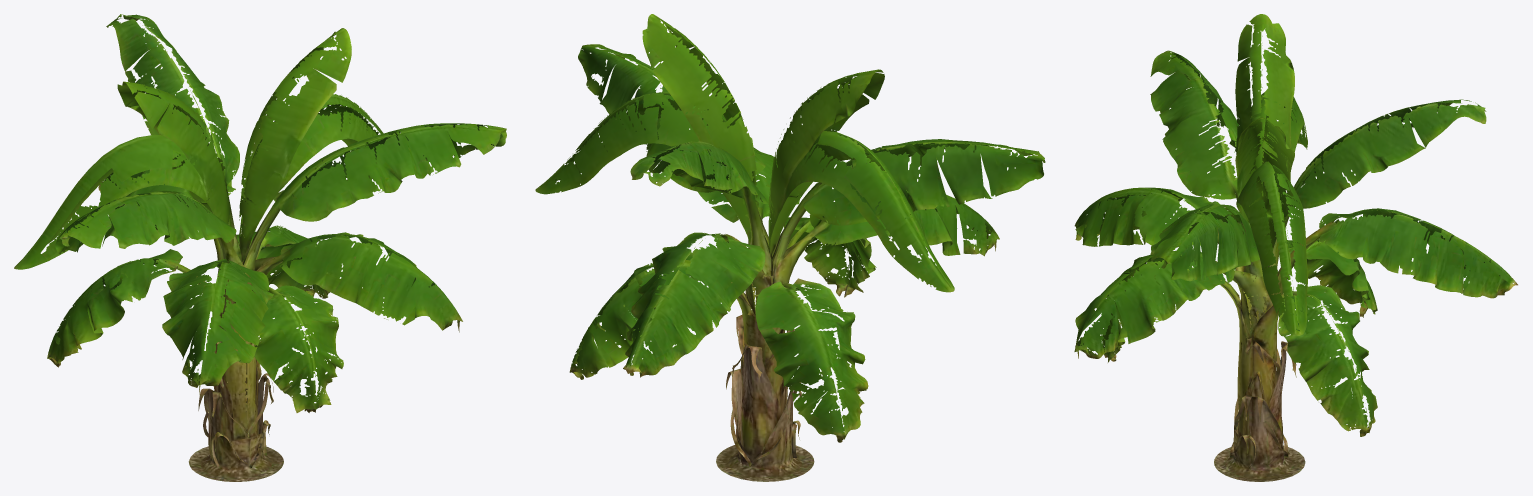
The model's file is bananaplant.lite.glb.
3 renders of one model, left to right at view 1: azimuth 30°, elevation 25°; view 2: azimuth 150°, elevation 25°; view 3: azimuth 270°, elevation 25°, orthographic. The views are drawn at different scales.
Visible parts, largest first — view 1: model; view 2: model; view 3: model.
Boxes of the visible parts, bbox=[...] form: model: bbox=[14, 14, 506, 481]; model: bbox=[535, 14, 1045, 481]; model: bbox=[1074, 14, 1517, 481].
Size of the model in its own units: 0.9995 by 0.8647 by 0.8765.
2 materials, 2 textured.
